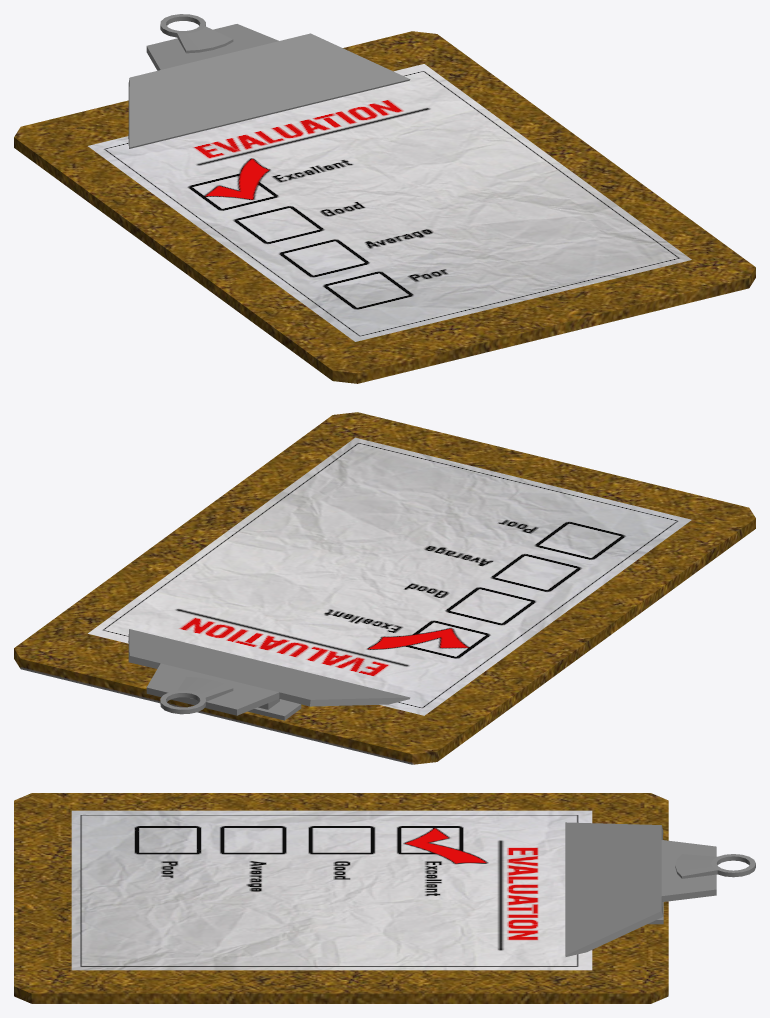
The model's file is Env_LabDesk_Object_ClipBoard.fbx.
The picture shows the model from 3 angles, top to bottom: view 1: azimuth 30°, elevation 25°; view 2: azimuth 150°, elevation 25°; view 3: azimuth 270°, elevation 25°; orthographic projection. The views are drawn at different scales.
Visible parts, largest first — view 1: polySurface2; view 2: polySurface2; view 3: polySurface2.
Part boxes in pixels (box(x1,y1,x2,y2)): polySurface2: box(14, 14, 755, 383); polySurface2: box(14, 412, 755, 764); polySurface2: box(14, 793, 755, 1003).
Size of the model in its own units: 21.12 by 1.97 by 33.
Materials: 1 (1 with a texture image).
